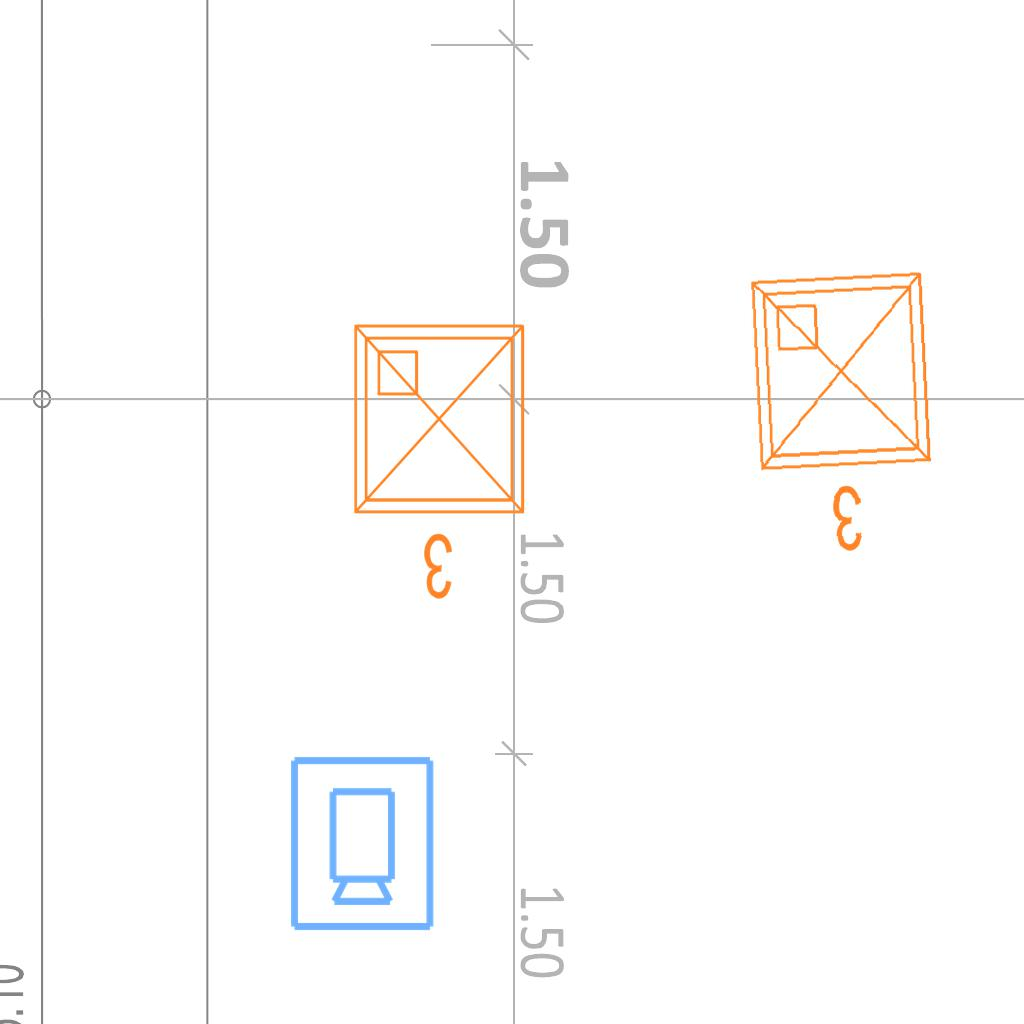Einbaudownlights_LED_Konferenzraeume: (735, 256, 959, 568), (339, 310, 547, 610)
KFO_Kamera_mit_Festobjektiv: (284, 752, 438, 934)
